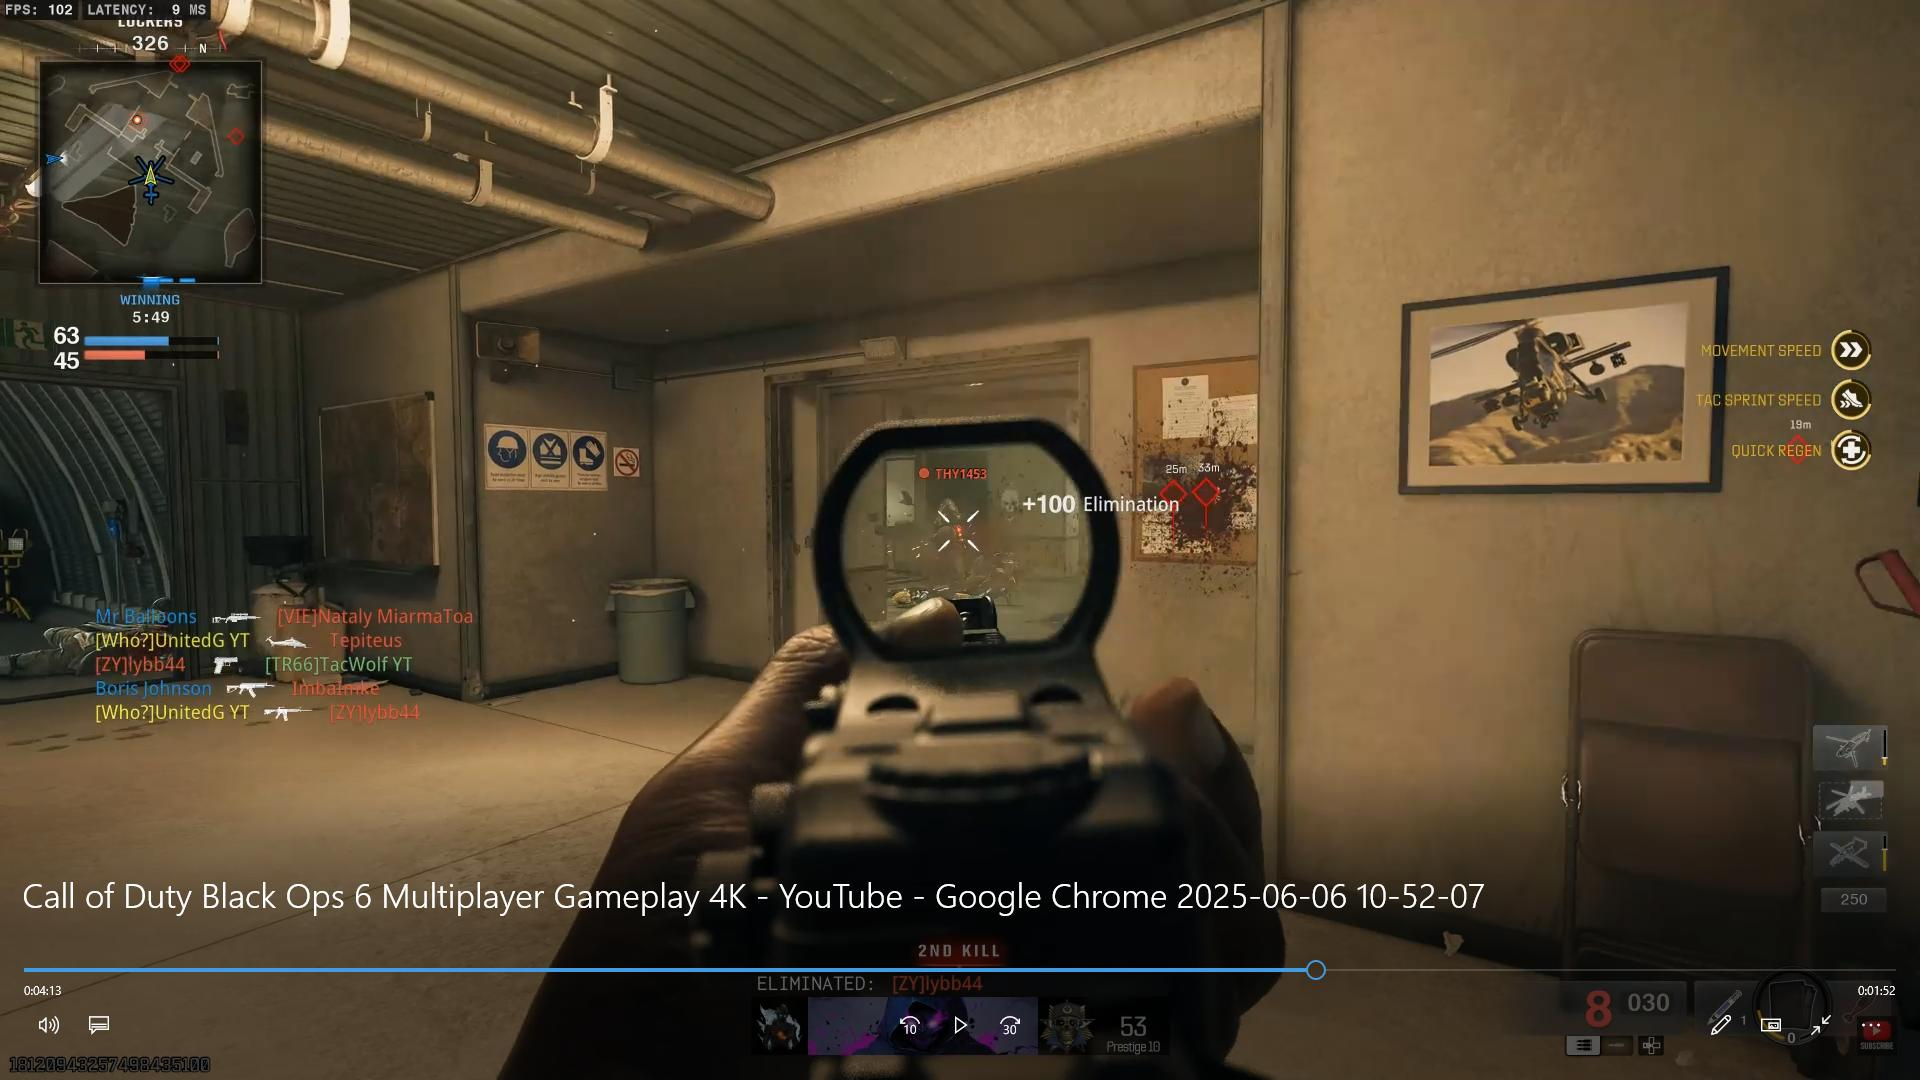Enemy: (909, 456, 1000, 582)
